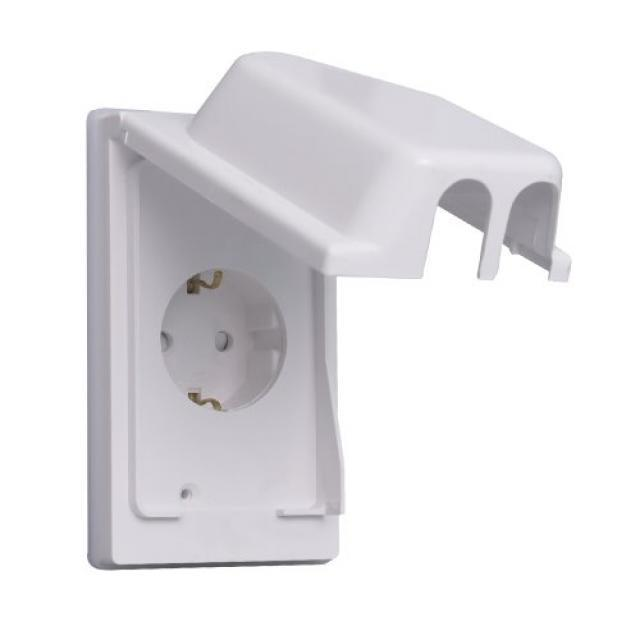typeb: (59, 88, 560, 586)
